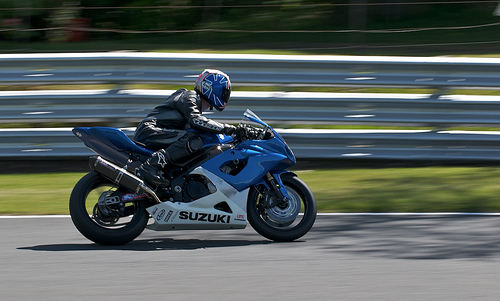helmet: (199, 64, 232, 107)
